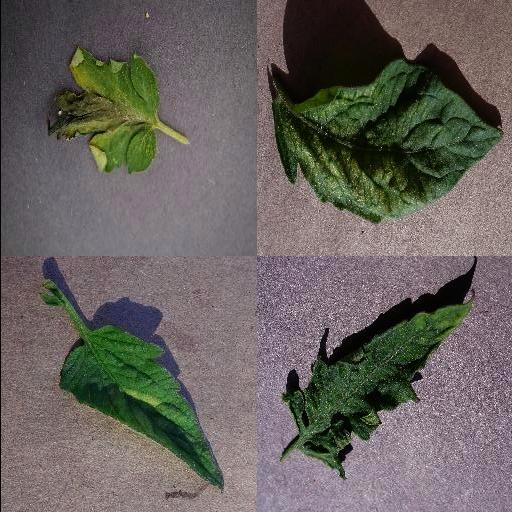Late Blight: (44, 47, 162, 179)
Leaf Mold: (58, 324, 224, 492)
Mosaic Virus: (279, 290, 477, 480)
Spider Mites: (272, 61, 504, 223)
